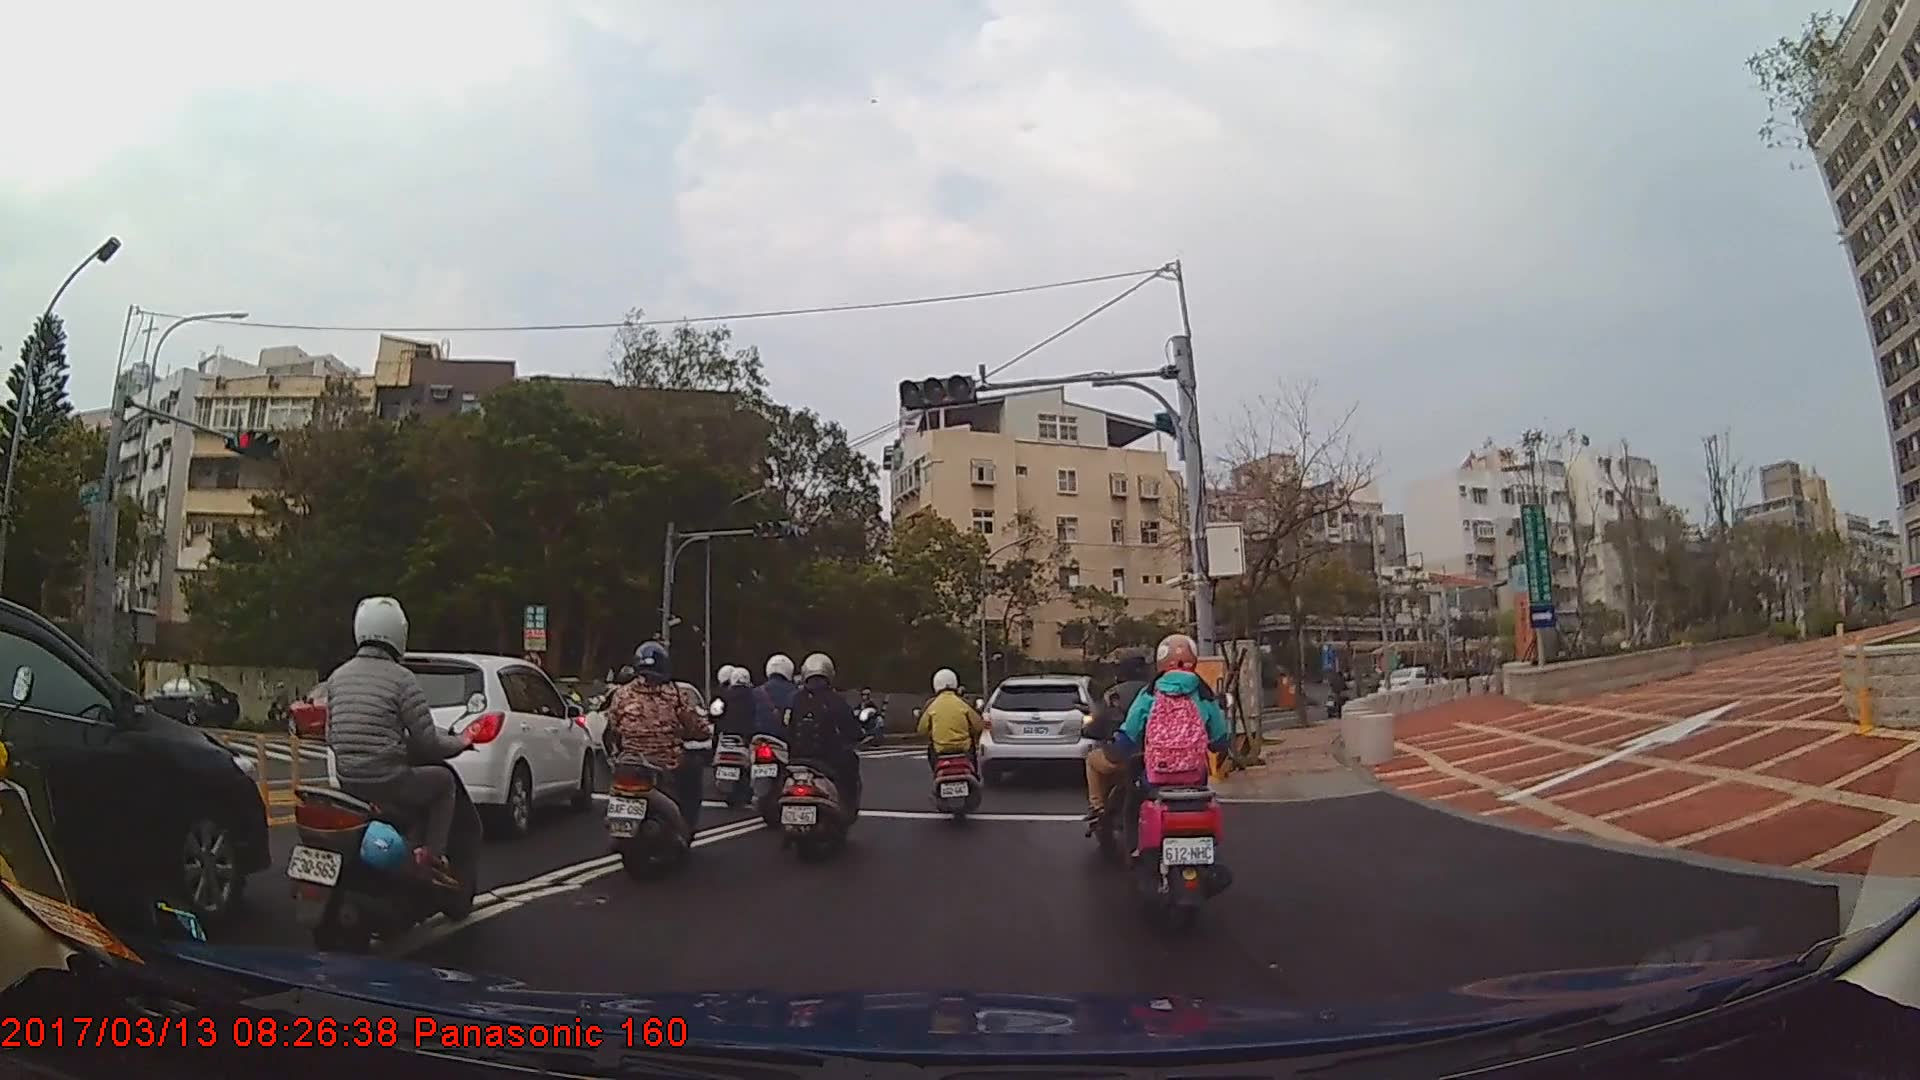rider: (284, 595, 487, 959), (1118, 634, 1233, 925), (597, 641, 713, 888), (1075, 644, 1181, 859), (776, 650, 872, 867), (742, 652, 820, 828), (916, 668, 993, 823), (712, 668, 774, 807), (852, 688, 887, 748)
vehicle: (0, 594, 269, 920), (325, 650, 590, 841), (978, 674, 1120, 788), (286, 676, 388, 737), (135, 674, 239, 728), (1379, 666, 1447, 700)
